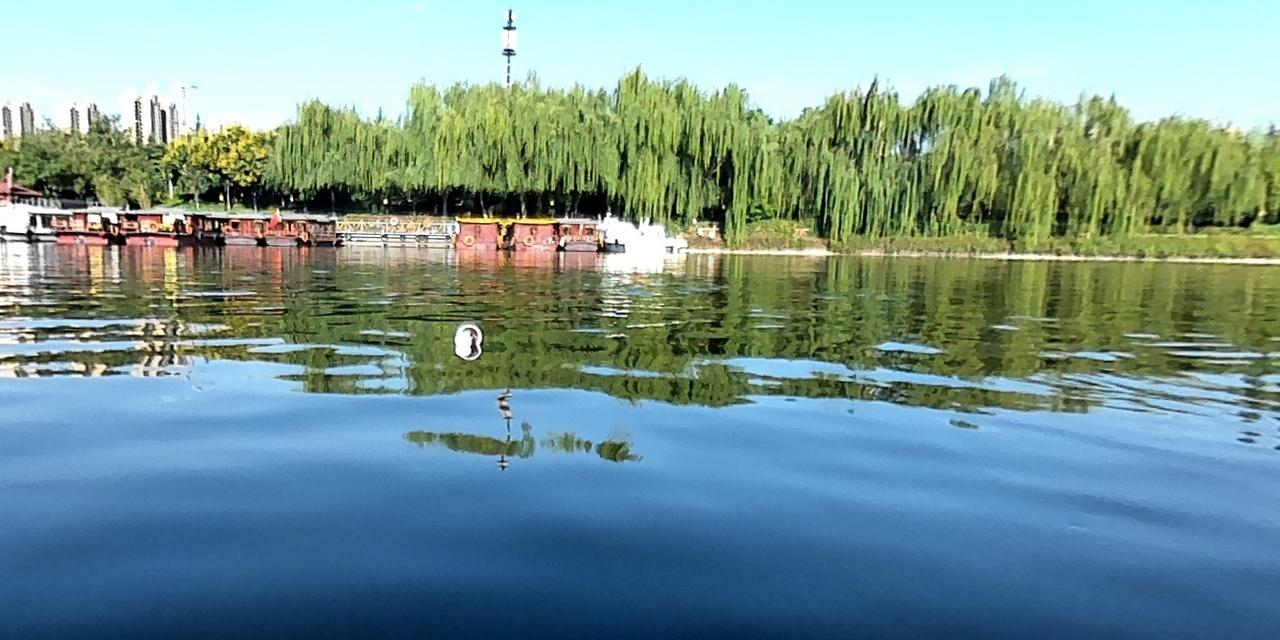bottle: (449, 319, 486, 345)
